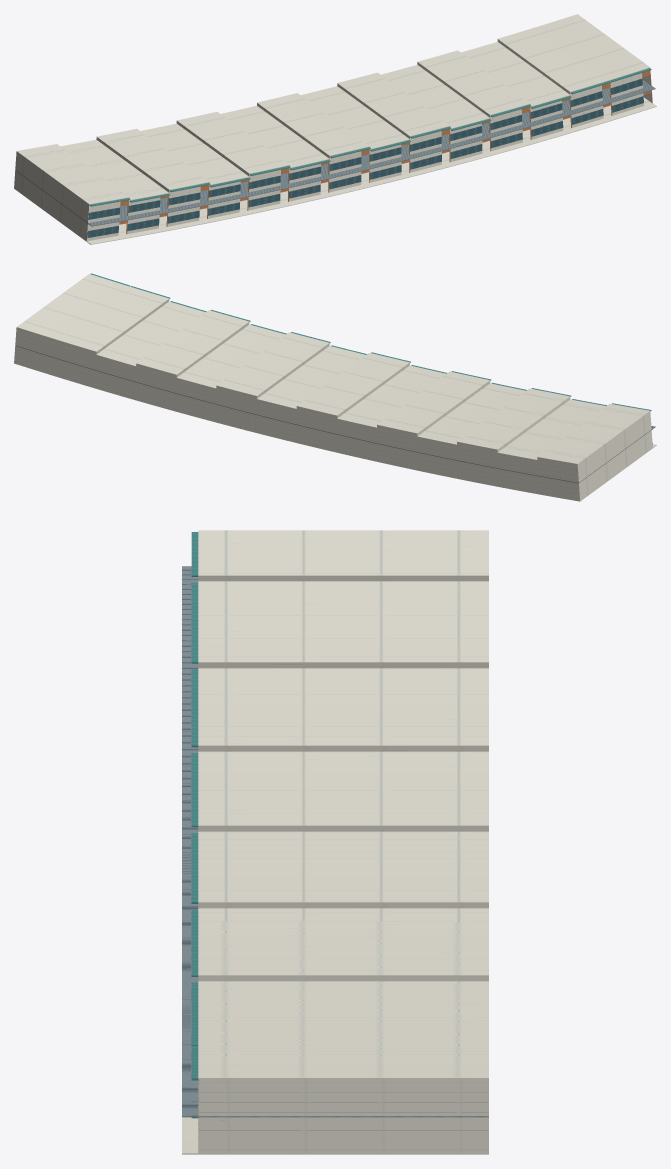
Rendered from TorusDistrict_ShopsA.obj.
The picture shows the model from 3 angles, top to bottom: view 1: azimuth 30°, elevation 25°; view 2: azimuth 150°, elevation 25°; view 3: azimuth 270°, elevation 25°; orthographic projection. The views are drawn at different scales.
Visible parts, largest first — view 1: TorusDistrict_ShopsA; view 2: TorusDistrict_ShopsA; view 3: TorusDistrict_ShopsA.
Boxes of the visible parts, x1,y1,x2,y2 form: TorusDistrict_ShopsA: (14, 14, 656, 244); TorusDistrict_ShopsA: (14, 273, 656, 501); TorusDistrict_ShopsA: (182, 530, 488, 1154).
Bounding box in the file's own units: 31.91 × 2.57 × 7.5.
1 material, 1 textured.
